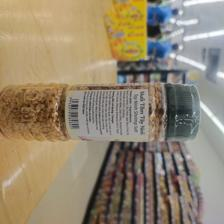TayNinh_green: (1, 82, 201, 143)
